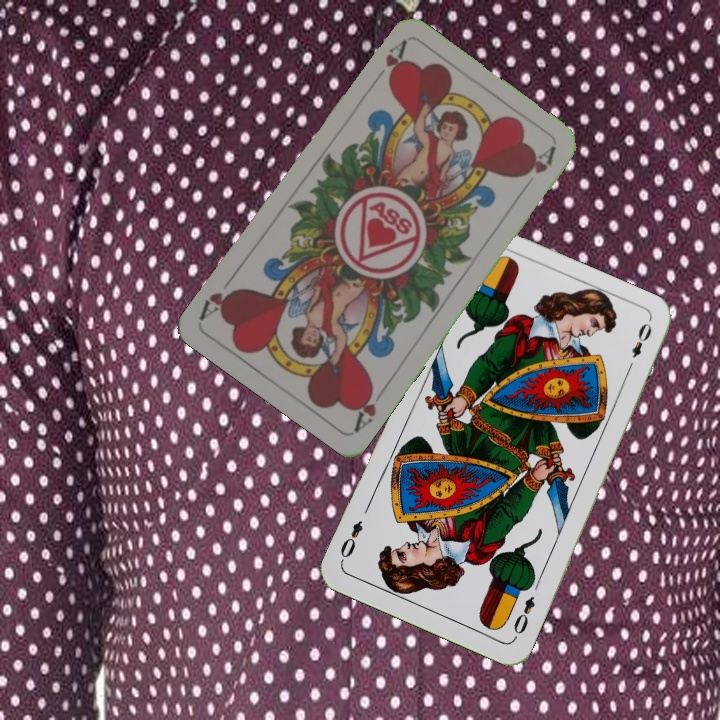EO: (509, 592, 538, 642)
HA: (350, 380, 389, 435), (367, 37, 409, 87)
